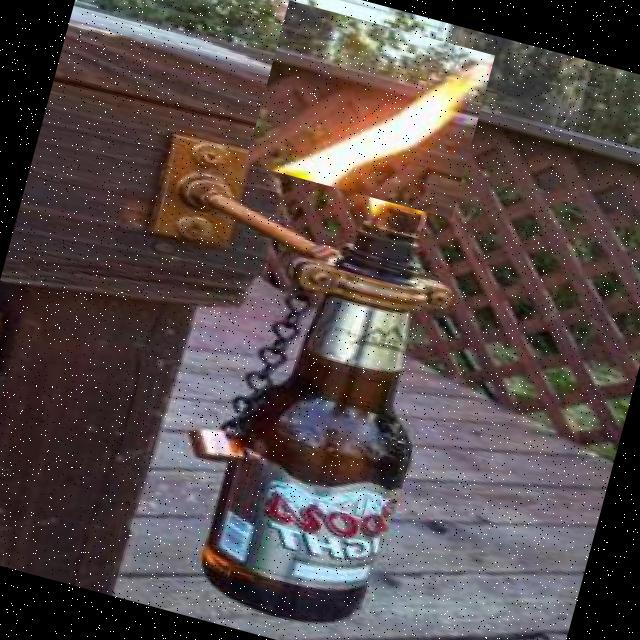fire: (246, 0, 494, 218)
